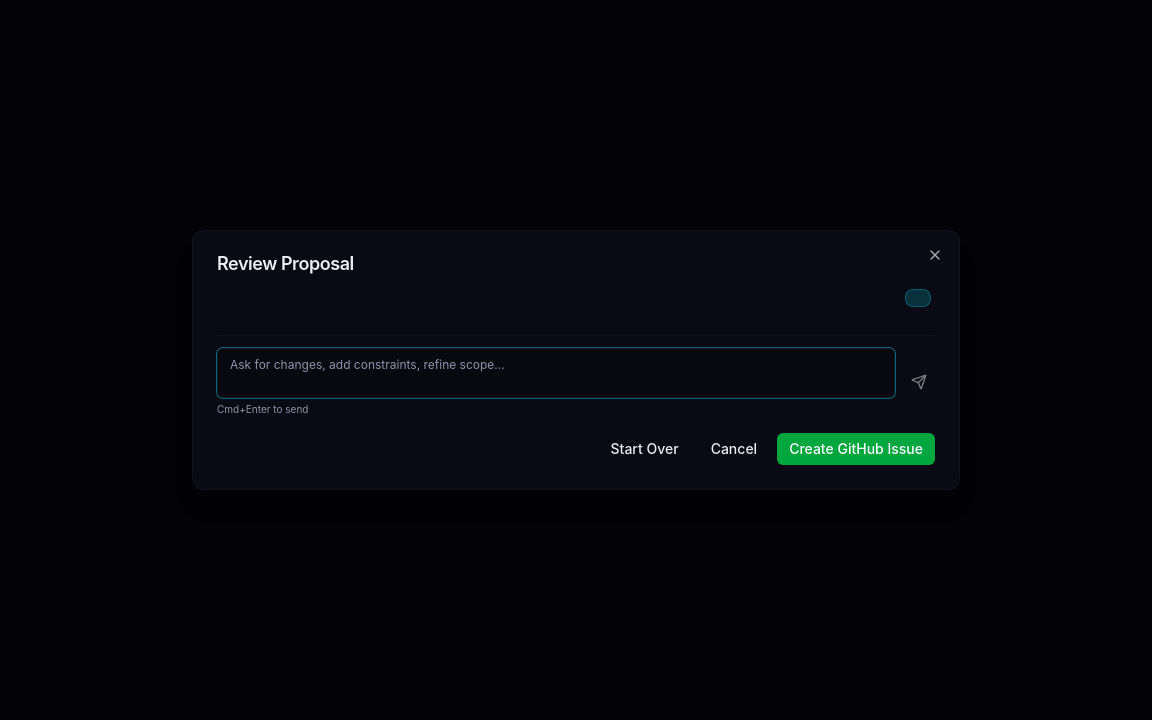
Test: FeatureProposalModal › "No" button dismisses the confirm creation dialog
The image size is (1152, 720).
Click the button "Create GitHub Issue" at (856, 449), box [777, 433, 935, 465]
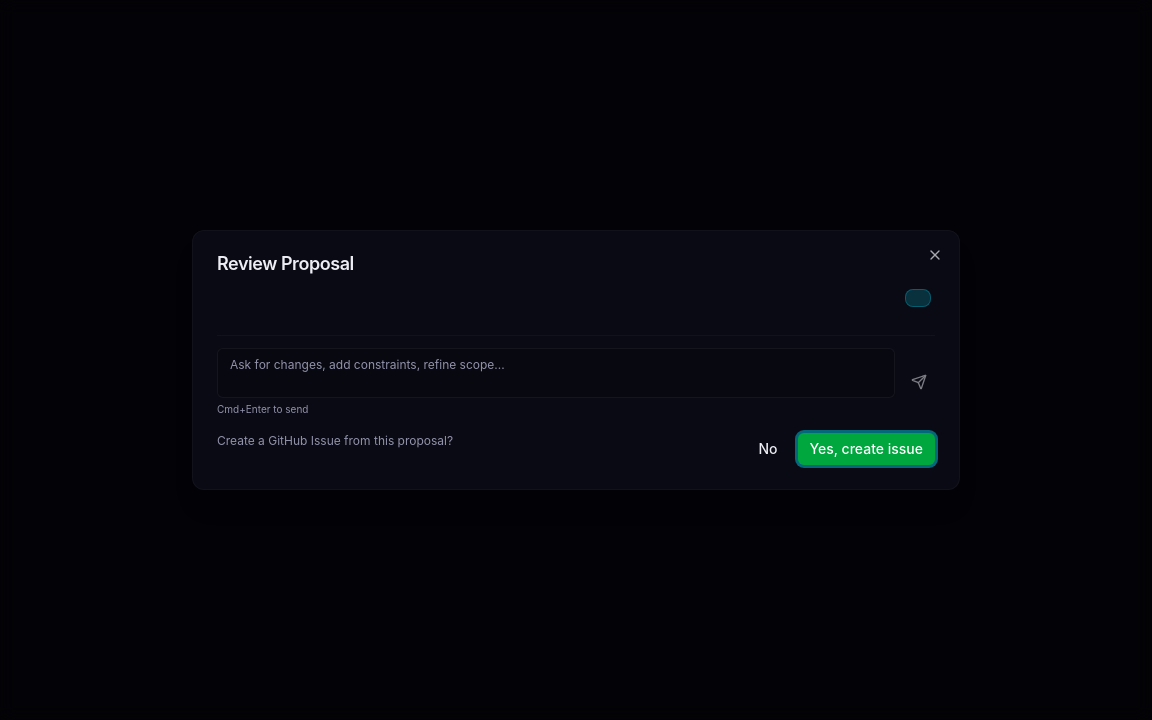
Expected: the button "No" is shown
Click the button "No" at (768, 449), box [746, 433, 790, 465]
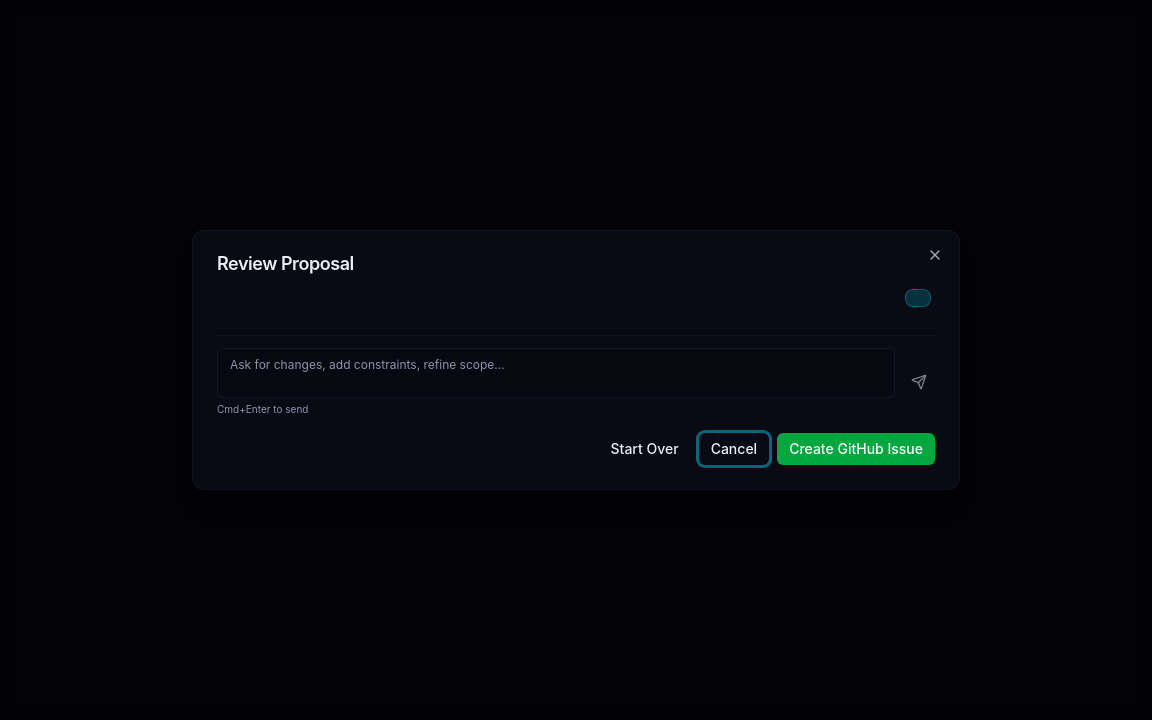
Expected: the text "Create a GitHub Issue from this proposal?" is gone
